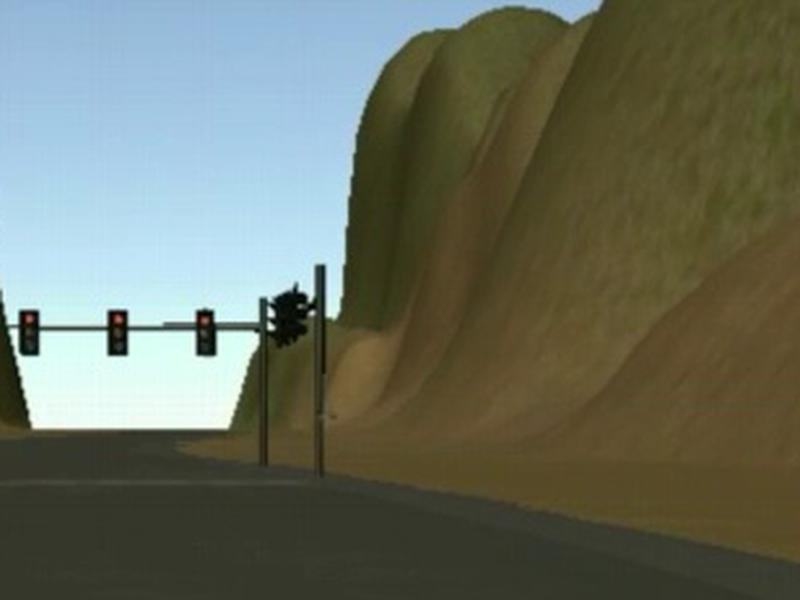Red: (19, 309, 40, 356), (107, 309, 127, 356), (196, 311, 216, 357)
